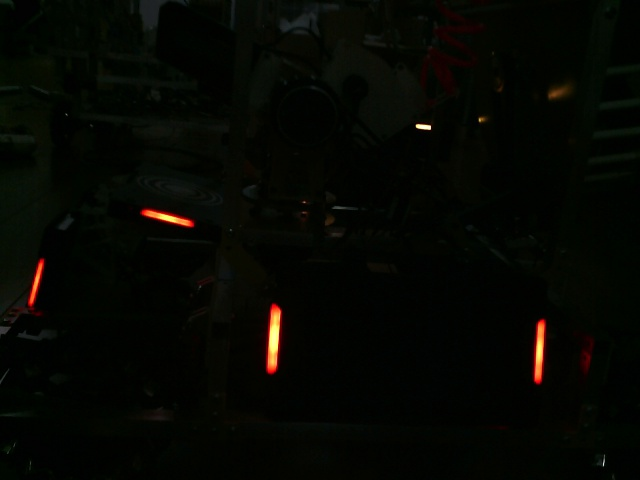lamp: (260, 303, 283, 373), (530, 318, 547, 386), (26, 256, 45, 310)
